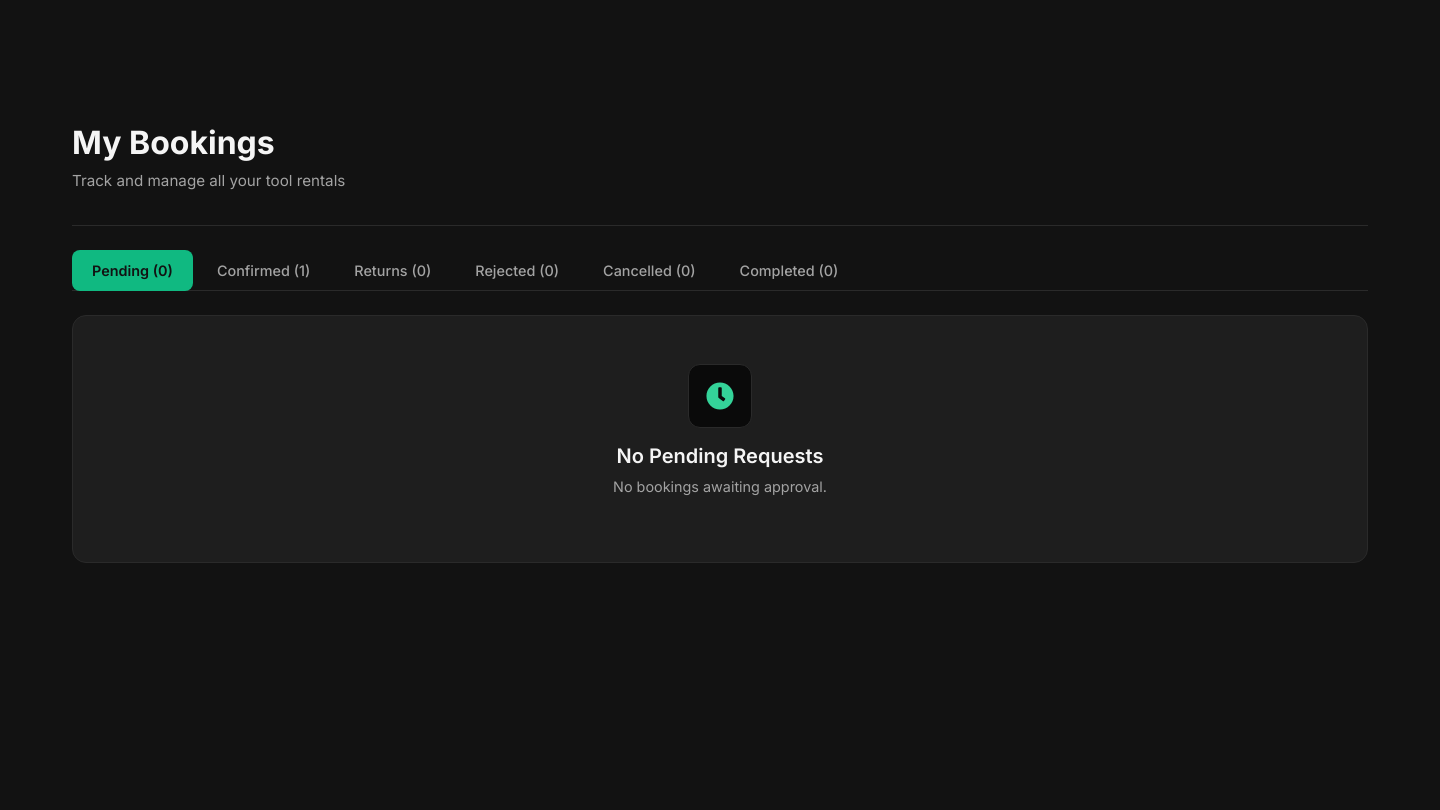
moves the borrower to the return-request tab after a successful return request
Click the tab "Confirmed (1)".
click(264, 271)  # box [197,250,330,291]
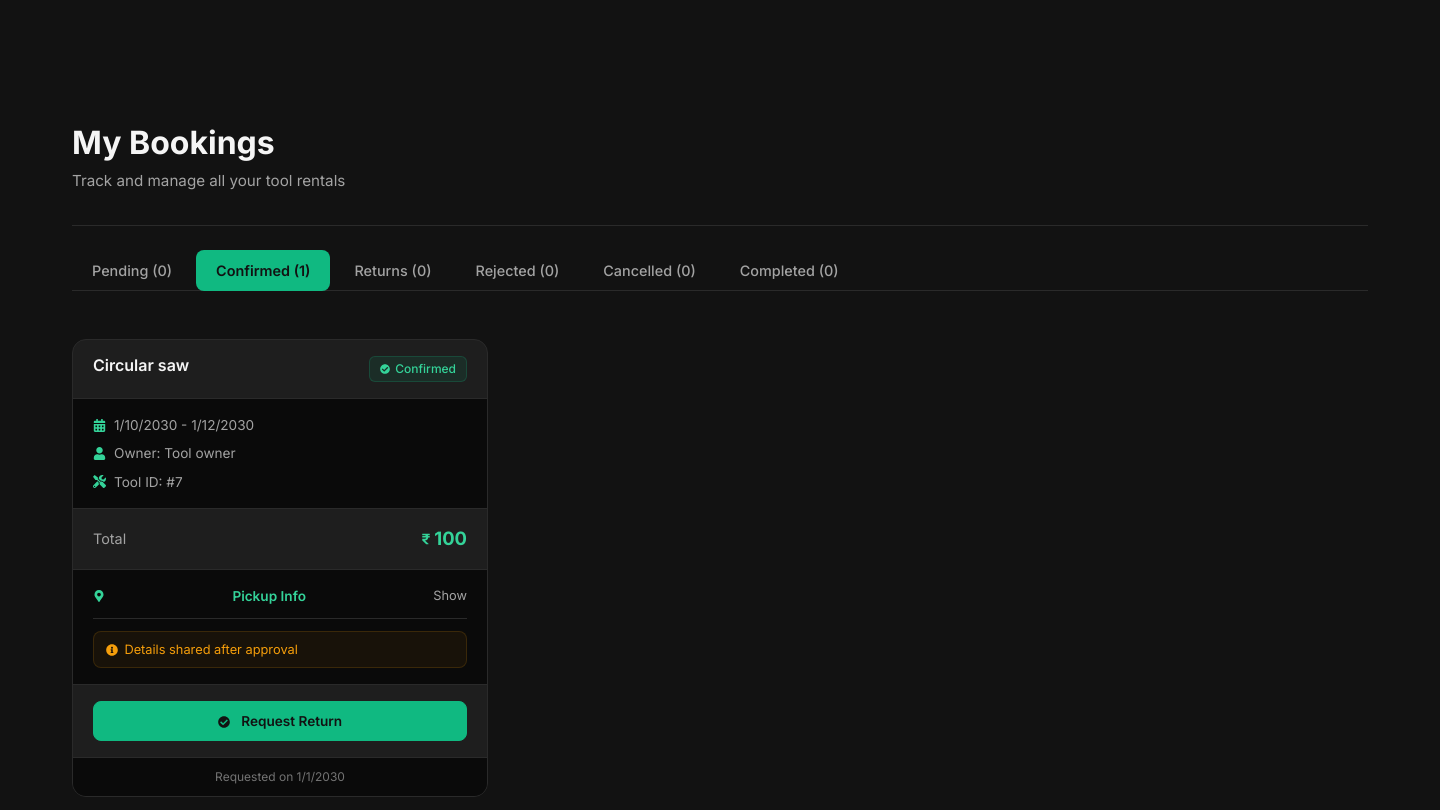
Click the button "Request Return".
click(280, 721)  # box [93,701,467,741]
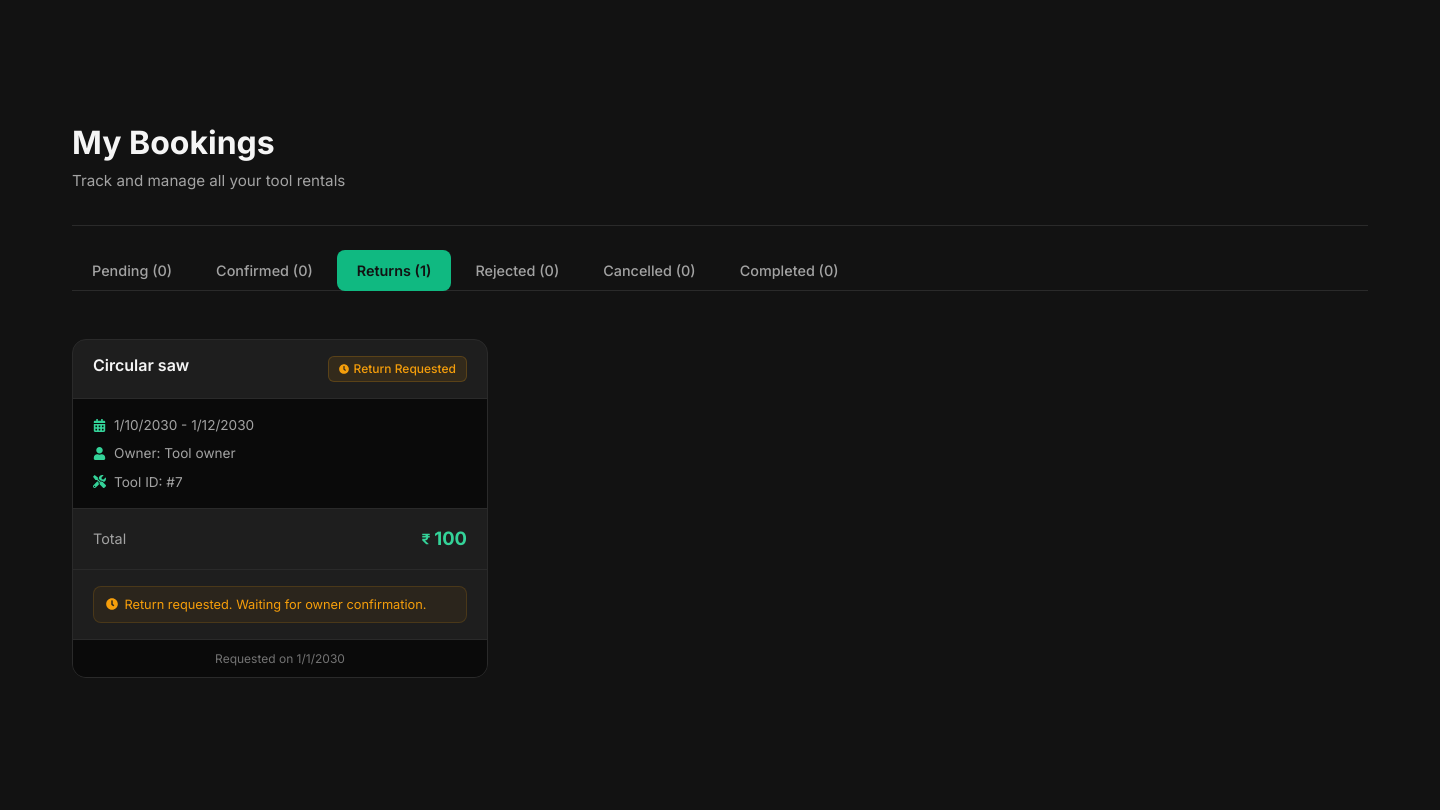
Check: the heading "Circular saw" is shown, box [93,356,189,375]
Check: the text "Return requested. Waiting for owner confirmation." is shown, box [93,586,467,623]
